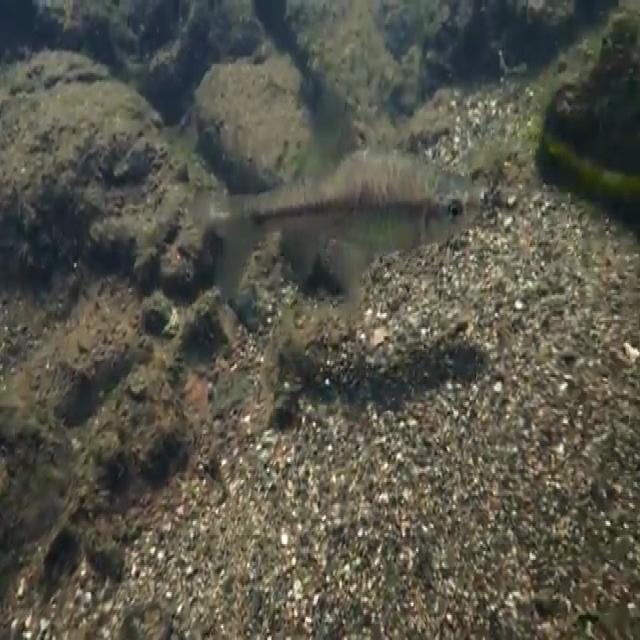Cakil Baligi: (193, 130, 500, 310)
